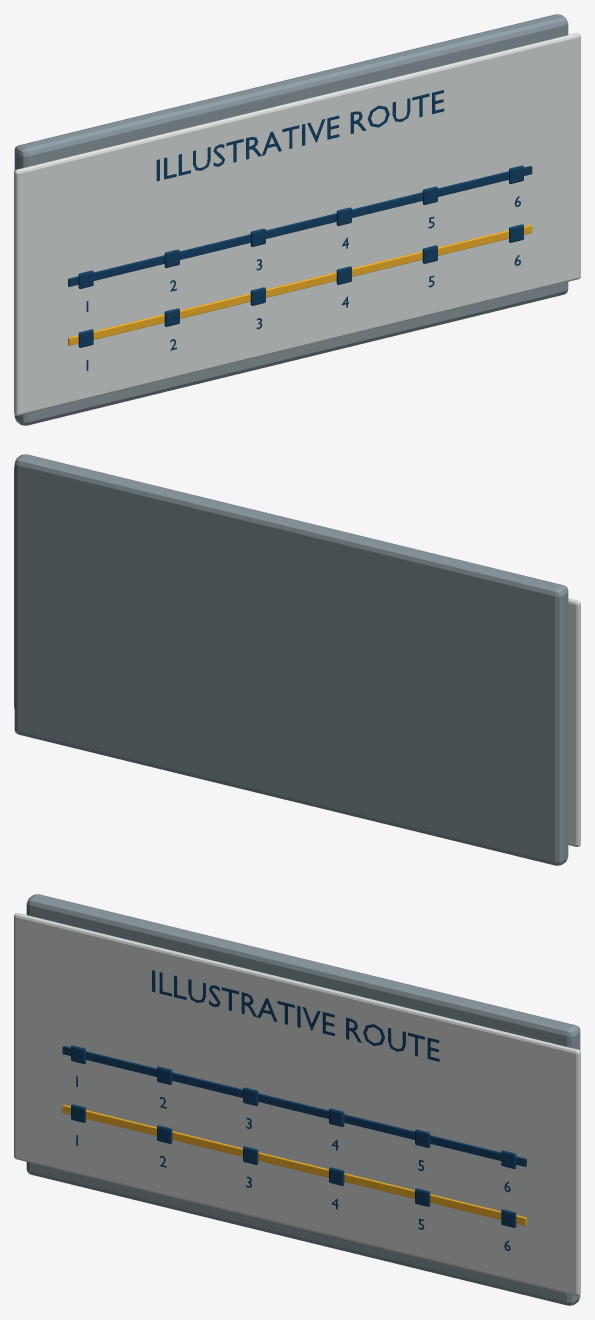
The model's file is edited.glb.
3 views of the same model, one above another, from view 1: azimuth 30°, elevation 25°; view 2: azimuth 150°, elevation 25°; view 3: azimuth 330°, elevation 25° (orthographic).
Visible parts, largest first — view 1: PANEL_Inlay, PANEL_Frame, ROUTE_Line.001, ROUTE_Line, EDITABLE_Title; view 2: PANEL_Frame, PANEL_Inlay; view 3: PANEL_Inlay, PANEL_Frame, ROUTE_Line.001, ROUTE_Line, EDITABLE_Title.
Boxes of the visible parts, box(x1,y1,x2,y2) form: PANEL_Inlay: box(14, 33, 580, 415); PANEL_Frame: box(14, 14, 568, 425); ROUTE_Line.001: box(68, 224, 532, 345); ROUTE_Line: box(68, 166, 532, 286); EDITABLE_Title: box(156, 90, 444, 181); PANEL_Frame: box(14, 454, 568, 865); PANEL_Inlay: box(14, 466, 580, 846); PANEL_Inlay: box(14, 913, 580, 1295); PANEL_Frame: box(26, 894, 580, 1305); ROUTE_Line.001: box(62, 1104, 526, 1225); ROUTE_Line: box(62, 1046, 526, 1166); EDITABLE_Title: box(152, 970, 439, 1061).
Bounding box in the file's own units: 1.71 × 0.8 × 0.0873.
